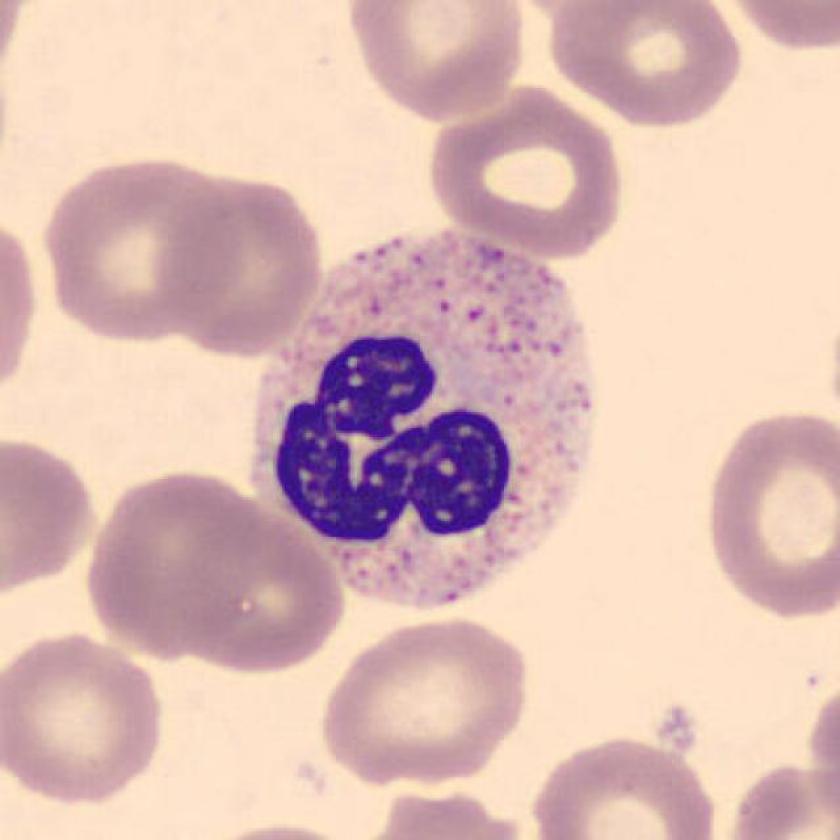neutrophil: (252, 230, 597, 608)
